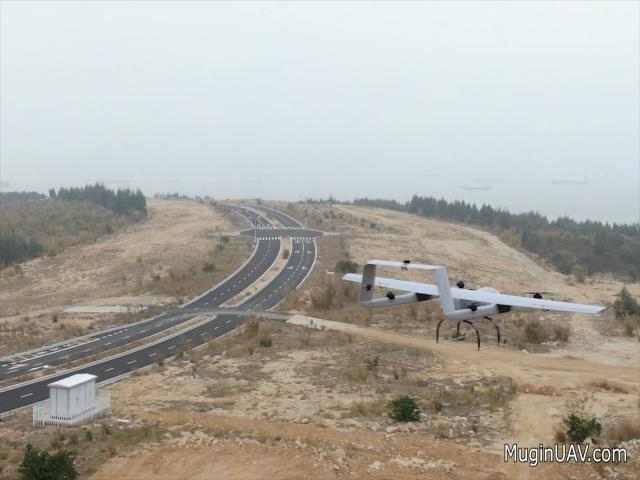plane: (341, 257, 606, 346)
